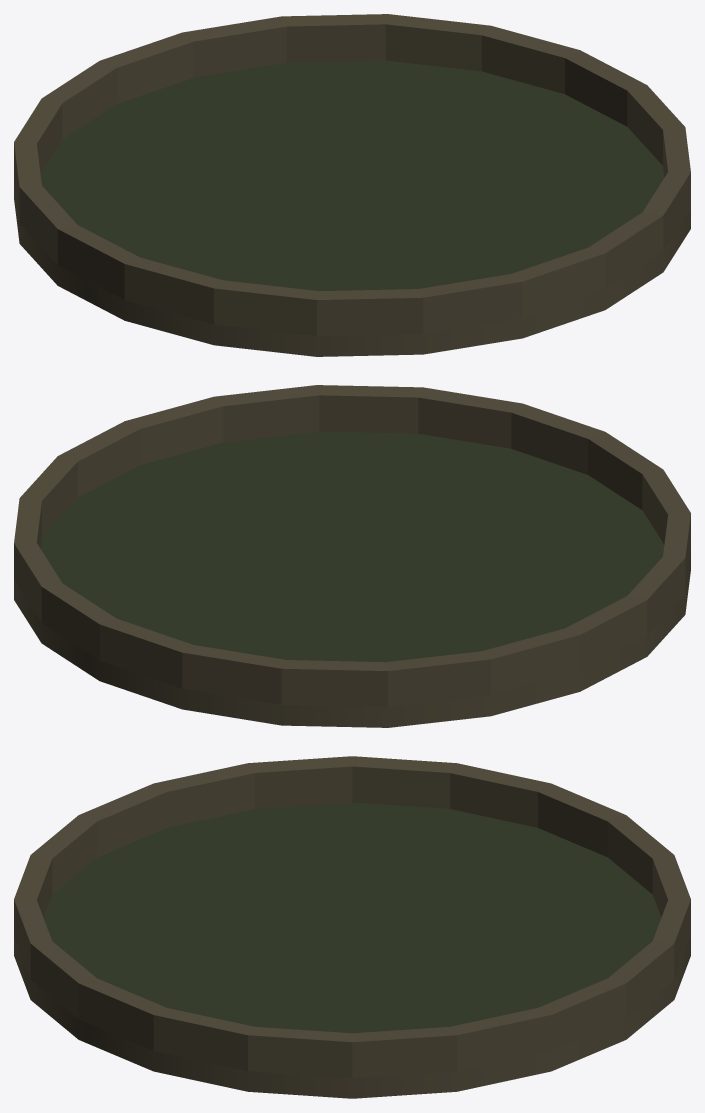
Rendered from escenario2v4.fbx.
3 views of the same model, one above another, from view 1: azimuth 30°, elevation 25°; view 2: azimuth 150°, elevation 25°; view 3: azimuth 270°, elevation 25° (orthographic).
Parts seen in each view (by area): view 1: pCylinder4; view 2: pCylinder4; view 3: pCylinder4.
Part boxes in pixels (x1,y1,x2,y2): pCylinder4: (14, 14, 690, 356); pCylinder4: (14, 385, 690, 727); pCylinder4: (14, 756, 690, 1098).
Size of the model in its own units: 1977 by 182 by 1977.
